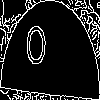O: (25, 24, 47, 75)
